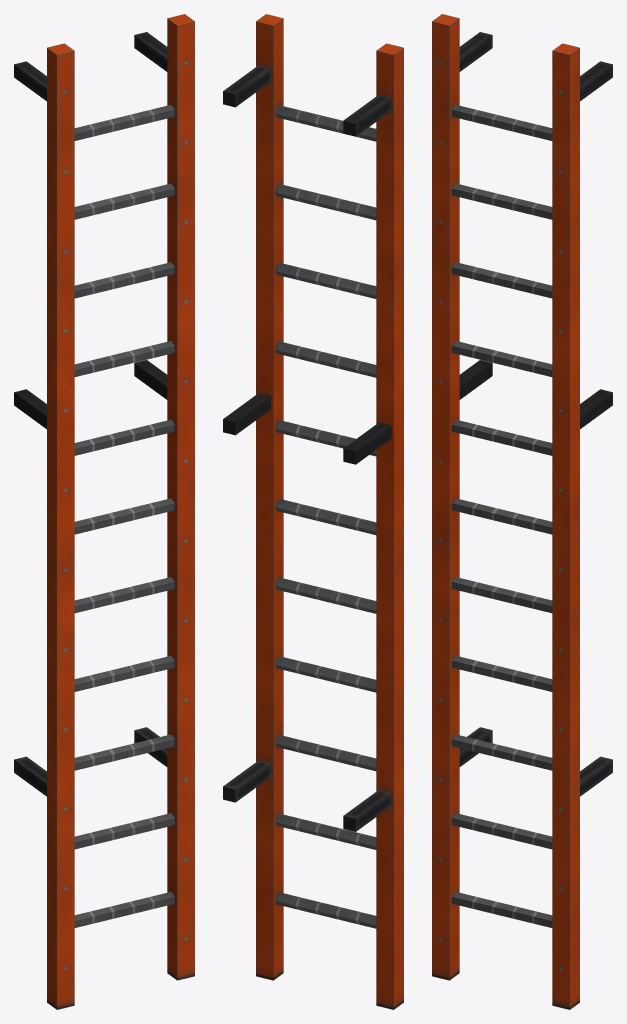
File: ladder.glb
The picture shows the model from 3 angles, left to right: view 1: azimuth 30°, elevation 25°; view 2: azimuth 150°, elevation 25°; view 3: azimuth 330°, elevation 25°; orthographic projection.
Visible parts, largest first — view 1: ladder; view 2: ladder; view 3: ladder.
Part boxes in pixels (left/top/right/bottom): ladder: left=14, top=14, right=194, bottom=1009; ladder: left=223, top=14, right=403, bottom=1009; ladder: left=432, top=14, right=612, bottom=1009.
Size of the model in its own units: 0.55 by 3.64 by 0.315.
1 material, 1 textured.
